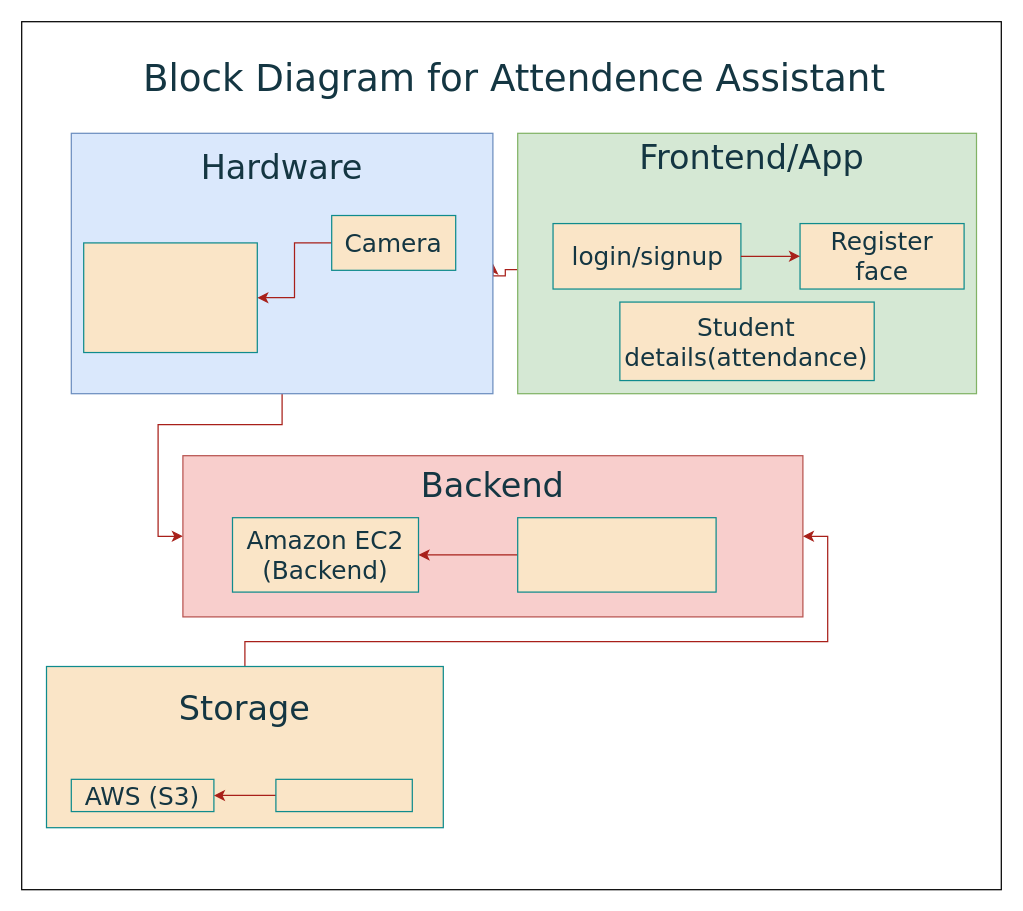
Image size: 1023x911. Some labels were removed from this diagram. Each missing label, with the centre of its shape:
"Backend Logic" goes at point 616,554.
"DynamoDB" goes at point 343,795.
"Raspberry pi" goes at point 169,297.
